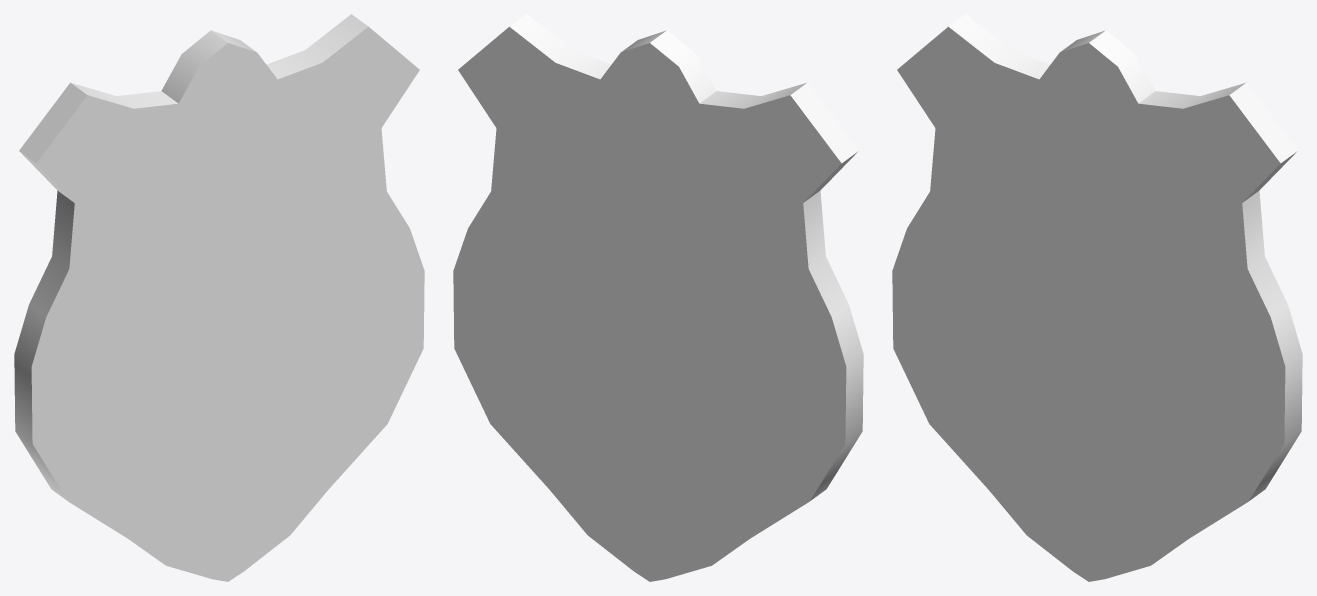
Rendered from M_PoliceBadge_0.fbx.
3 renders of one model, left to right at view 1: azimuth 30°, elevation 25°; view 2: azimuth 150°, elevation 25°; view 3: azimuth 330°, elevation 25°, orthographic.
Parts seen in each view (by area): view 1: M_PoliceBadge_0; view 2: M_PoliceBadge_0; view 3: M_PoliceBadge_0.
Boxes of the visible parts, bbox=[...] form: M_PoliceBadge_0: bbox=[14, 14, 424, 581]; M_PoliceBadge_0: bbox=[453, 14, 863, 581]; M_PoliceBadge_0: bbox=[892, 14, 1302, 581].
Bounding box in the file's own units: 28.73 × 37.66 × 2.19.
